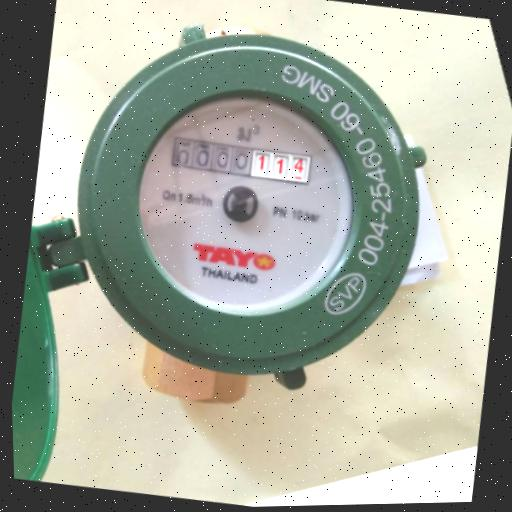0: (174, 140, 192, 166), (193, 143, 211, 168), (212, 145, 230, 170), (232, 148, 249, 173)
1: (252, 153, 270, 176), (270, 155, 288, 178)
4: (289, 157, 306, 181)
border_water_meter_number: (170, 134, 313, 189)
